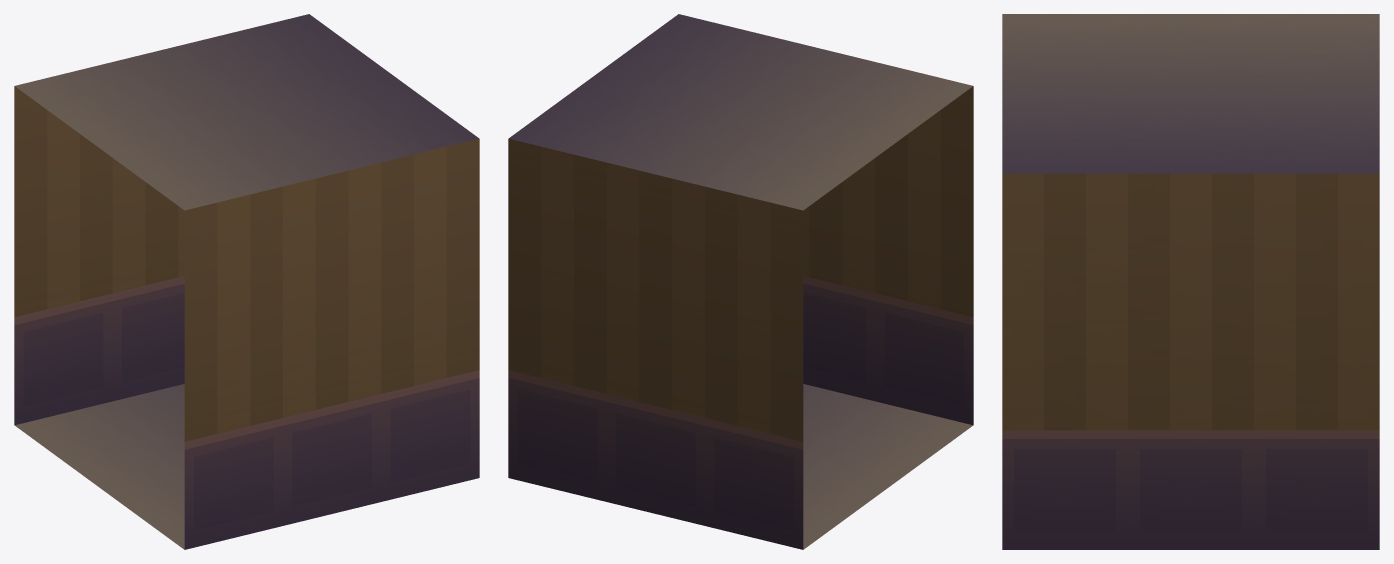
File: SM_EN_Elevator_Interior.fbx
3 renders of one model, left to right at view 1: azimuth 30°, elevation 25°; view 2: azimuth 150°, elevation 25°; view 3: azimuth 270°, elevation 25°, orthographic. The views are drawn at different scales.
Parts seen in each view (by area): view 1: SM_EN_Elevator_Interior; view 2: SM_EN_Elevator_Interior; view 3: SM_EN_Elevator_Interior.
Boxes of the visible parts, x1,y1,x2,y2 form: SM_EN_Elevator_Interior: (14,14,479,549); SM_EN_Elevator_Interior: (508,14,973,549); SM_EN_Elevator_Interior: (1002,14,1379,549).
Size of the model in its own units: 200 by 200 by 220.
